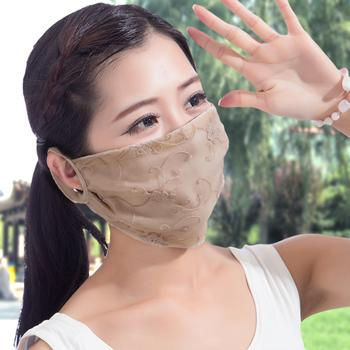face_mask: (81, 36, 223, 226)
